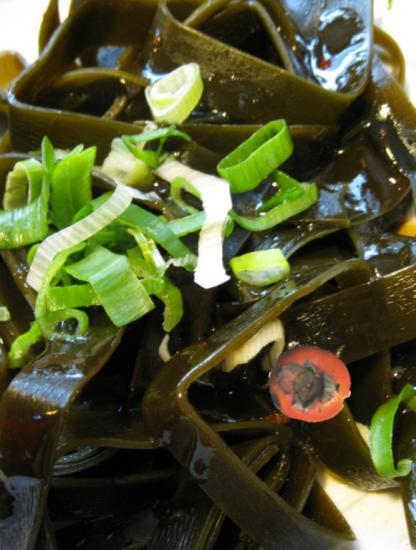Kaki: (268, 342, 352, 426)
